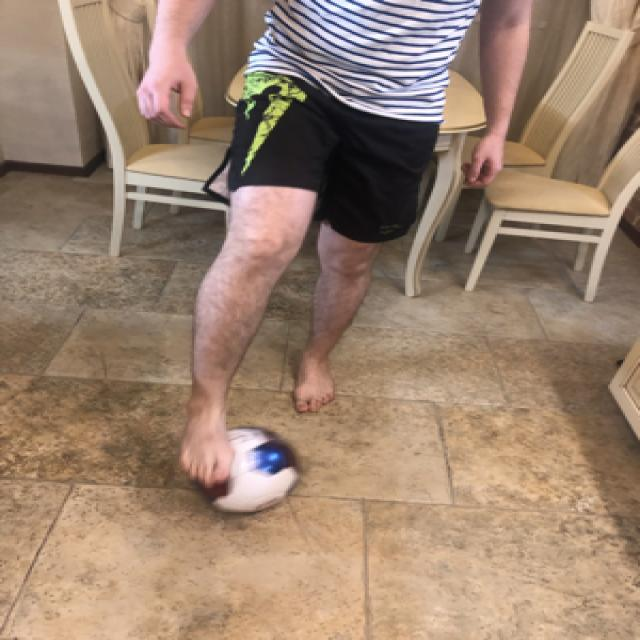soccer_ball: (186, 422, 300, 512)
